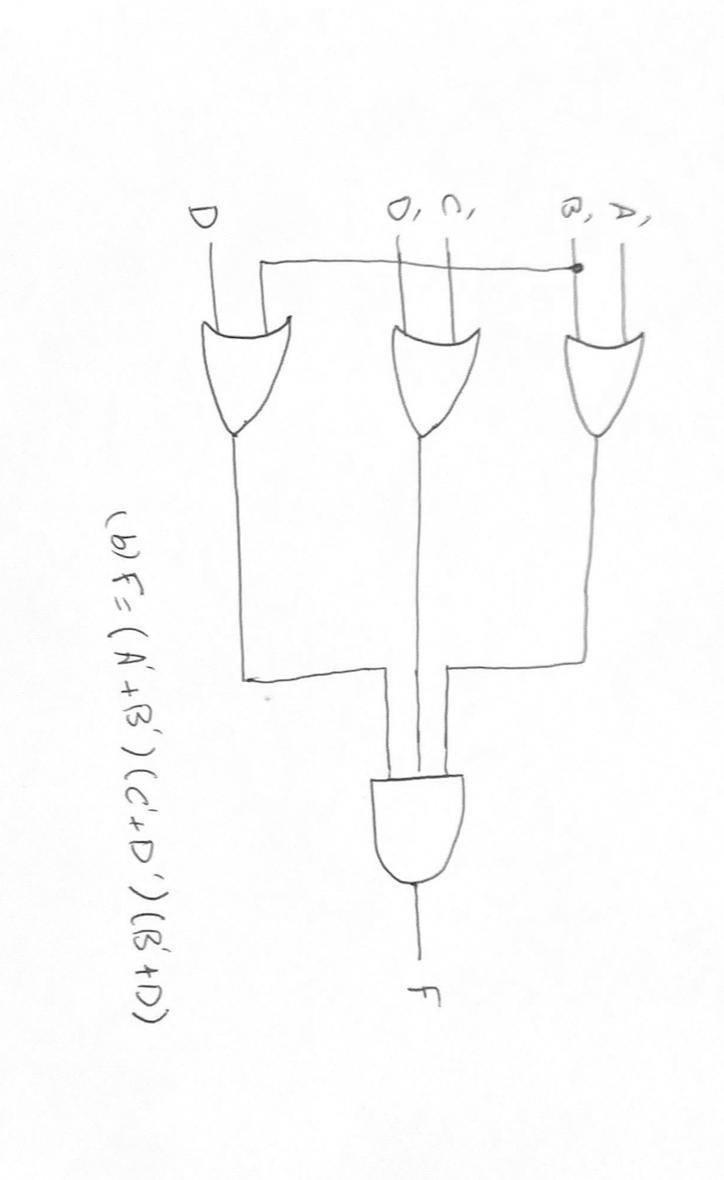AND: (355, 763, 498, 901)
OR: (180, 300, 310, 462), (373, 303, 496, 453), (542, 315, 663, 461)
